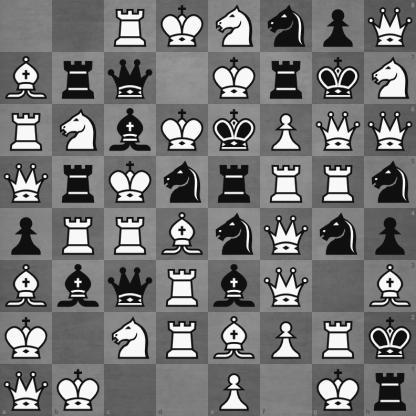B: (364, 260, 416, 312), (1, 53, 52, 104), (1, 261, 52, 312), (157, 209, 208, 260), (209, 313, 260, 364)
K: (52, 364, 104, 416), (312, 364, 364, 416), (1, 313, 52, 364), (105, 157, 156, 208), (157, 1, 208, 52), (157, 105, 208, 156), (209, 53, 260, 104)
N: (364, 52, 416, 104), (53, 105, 104, 156), (105, 313, 156, 364), (209, 1, 260, 52)
P: (209, 364, 260, 416), (261, 105, 312, 156), (261, 313, 312, 364)
Q: (0, 364, 52, 416), (364, 0, 416, 52), (364, 104, 416, 156), (1, 157, 52, 208), (261, 209, 312, 260), (261, 261, 312, 312), (313, 105, 364, 156)
R: (1, 105, 52, 156), (53, 209, 104, 260), (105, 1, 156, 52), (105, 209, 156, 260), (157, 261, 208, 312), (157, 313, 208, 364), (261, 157, 312, 208), (313, 157, 364, 208), (313, 313, 364, 364)
b: (53, 261, 104, 312), (105, 105, 156, 156), (209, 261, 260, 312)
board: (0, 0, 415, 415)
k: (364, 312, 416, 364), (209, 105, 260, 156), (313, 53, 364, 104)
n: (364, 156, 416, 209), (157, 157, 208, 208), (209, 209, 260, 260), (261, 1, 312, 52), (313, 209, 364, 260)
p: (364, 209, 416, 260), (1, 209, 52, 260), (313, 1, 364, 52)
q: (105, 53, 156, 104), (105, 261, 156, 312)
r: (364, 364, 416, 416), (53, 53, 104, 104), (53, 157, 104, 208), (209, 157, 260, 208), (261, 53, 312, 104)
